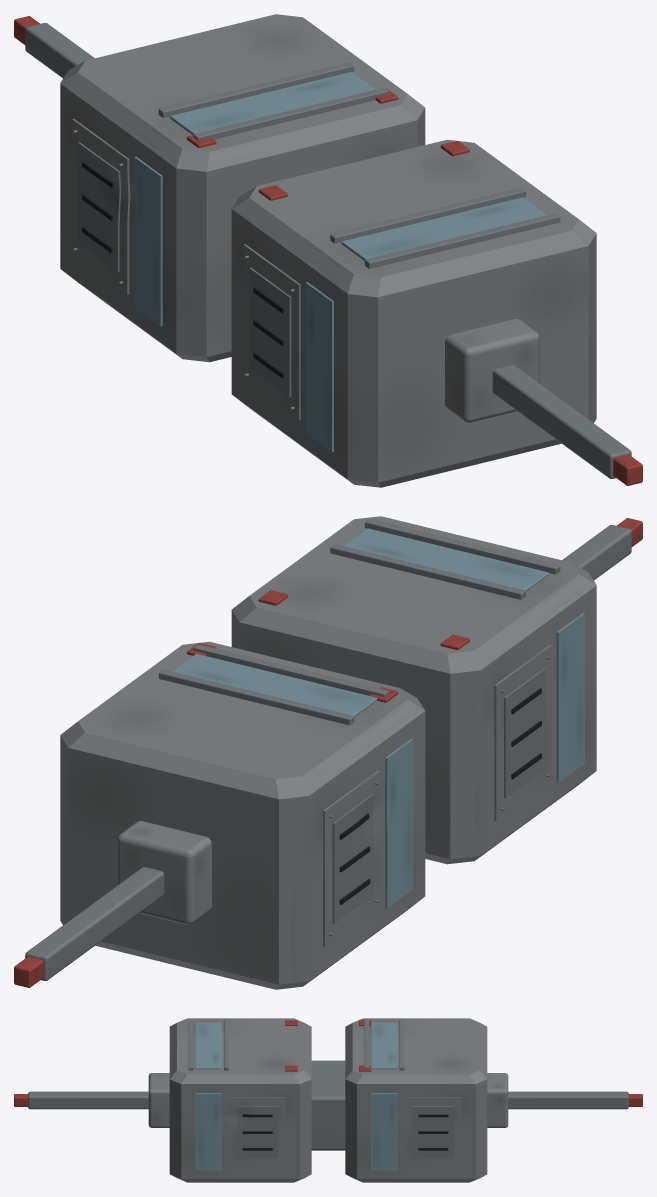
3 renders of one model, top to bottom at view 1: azimuth 30°, elevation 25°; view 2: azimuth 150°, elevation 25°; view 3: azimuth 270°, elevation 25°, orthographic. The views are drawn at different scales.
Parts seen in each view (by area): view 1: Elite pod -1, Elite pod 1, Elite axial root -1, Elite axial projection -1, Elite upper blue band -1, Elite upper blue band 1, Elite blue side band 1 -1, Elite blue side band -1 -1, Elite service inset -1 -1, Elite service inset 1 -1, Elite service frame -1 -1, Elite service frame 1 -1 (+6 smaller); view 2: Elite pod 1, Elite pod -1, Elite axial root 1, Elite axial projection 1, Elite upper blue band 1, Elite upper blue band -1, Elite blue side band 1 -1, Elite blue side band -1 -1, Elite service inset 1 -1, Elite service inset -1 -1, Elite service frame -1 -1, Elite service frame 1 -1 (+6 smaller); view 3: Elite pod -1, Elite pod 1, Elite central connection, Elite axial projection -1, Elite axial projection 1, Elite blue side band -1 1, Elite blue side band 1 1, Elite service inset -1 1, Elite service inset 1 1, Elite service frame -1 1, Elite service frame 1 1, Elite upper blue band -1 (+7 smaller).
Boxes of the visible parts, x1,y1,x2,y2 form: Elite pod -1: [231, 139, 596, 487]; Elite pod 1: [60, 14, 425, 362]; Elite axial root -1: [445, 319, 539, 422]; Elite axial projection -1: [492, 365, 631, 478]; Elite upper blue band -1: [341, 197, 546, 260]; Elite upper blue band 1: [170, 72, 375, 134]; Elite blue side band 1 -1: [134, 156, 162, 326]; Elite blue side band -1 -1: [305, 282, 333, 451]; Elite service inset -1 -1: [249, 267, 291, 397]; Elite service inset 1 -1: [78, 142, 121, 271]; Elite service frame -1 -1: [243, 244, 300, 420]; Elite service frame 1 -1: [72, 118, 130, 294]; Elite pod 1: [60, 641, 425, 989]; Elite pod -1: [231, 516, 596, 864]; Elite axial root 1: [117, 821, 211, 924]; Elite axial projection 1: [25, 867, 164, 980]; Elite upper blue band 1: [172, 654, 377, 717]; Elite upper blue band -1: [344, 528, 548, 591]; Elite blue side band 1 -1: [385, 738, 413, 908]; Elite blue side band -1 -1: [556, 613, 584, 782]; Elite service inset 1 -1: [332, 794, 374, 923]; Elite service inset -1 -1: [504, 668, 545, 798]; Elite service frame -1 -1: [494, 645, 551, 820]; Elite service frame 1 -1: [323, 770, 380, 946]; Elite pod -1: [169, 1018, 311, 1182]; Elite pod 1: [345, 1018, 487, 1182]; Elite central connection: [311, 1060, 345, 1150]; Elite axial projection -1: [28, 1091, 148, 1109]; Elite axial projection 1: [508, 1091, 628, 1109]; Elite blue side band -1 1: [195, 1093, 222, 1170]; Elite blue side band 1 1: [371, 1093, 397, 1170]; Elite service inset -1 1: [237, 1106, 278, 1158]; Elite service inset 1 1: [412, 1106, 453, 1158]; Elite service frame -1 1: [229, 1097, 285, 1166]; Elite service frame 1 1: [405, 1097, 461, 1166]; Elite upper blue band -1: [195, 1022, 222, 1069].
Bounding box in the file's own units: 1.08 × 0.8645 × 4.44.
Materials: 5 (3 with a texture image).
